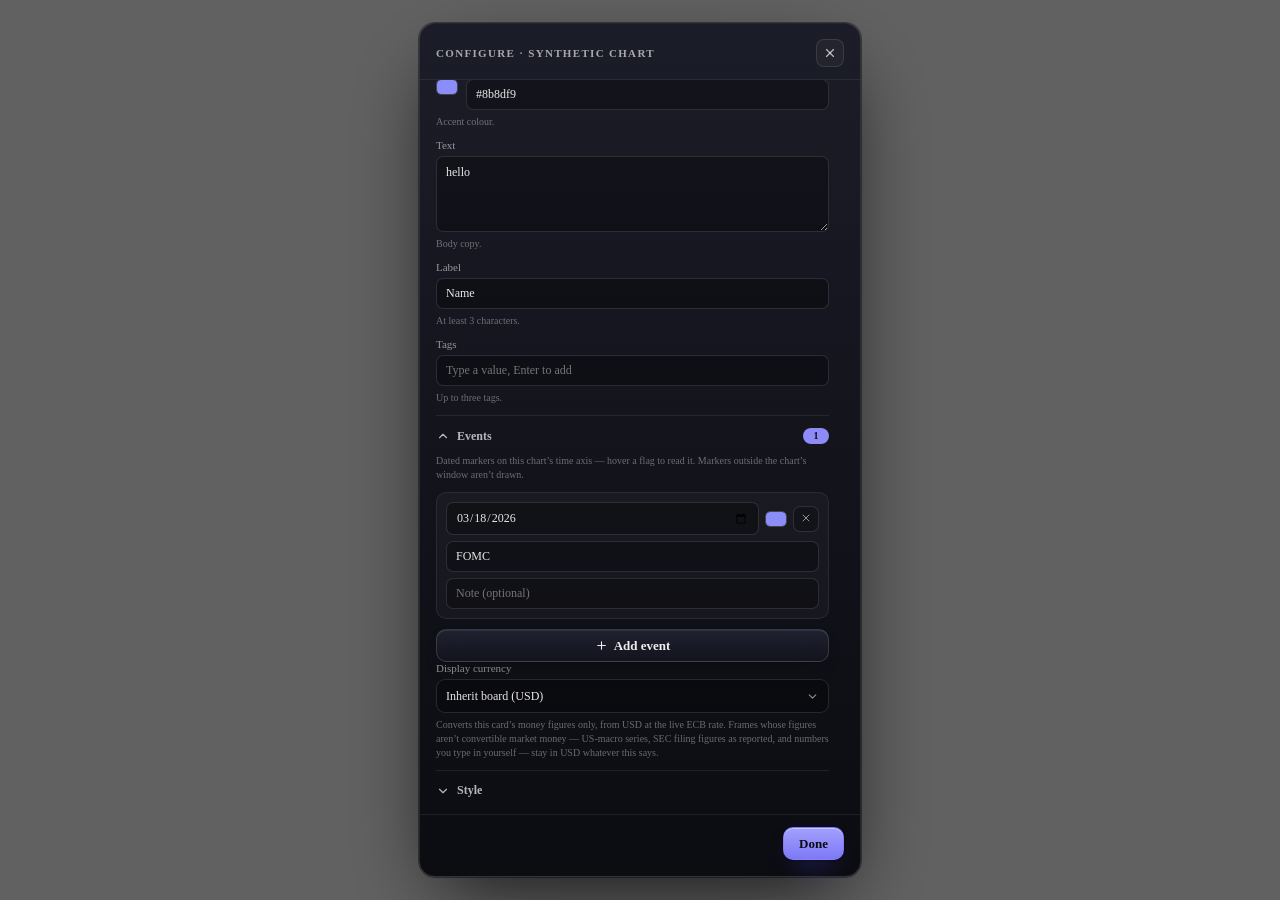
FrameConfigDialog events validation › refuses a cleared date
The image size is (1280, 900).
(page scrolled)
Clear the date field named "Event 1 date" at (602, 518), box x1=446 y1=502 x2=759 y2=535
Wait 200 ms
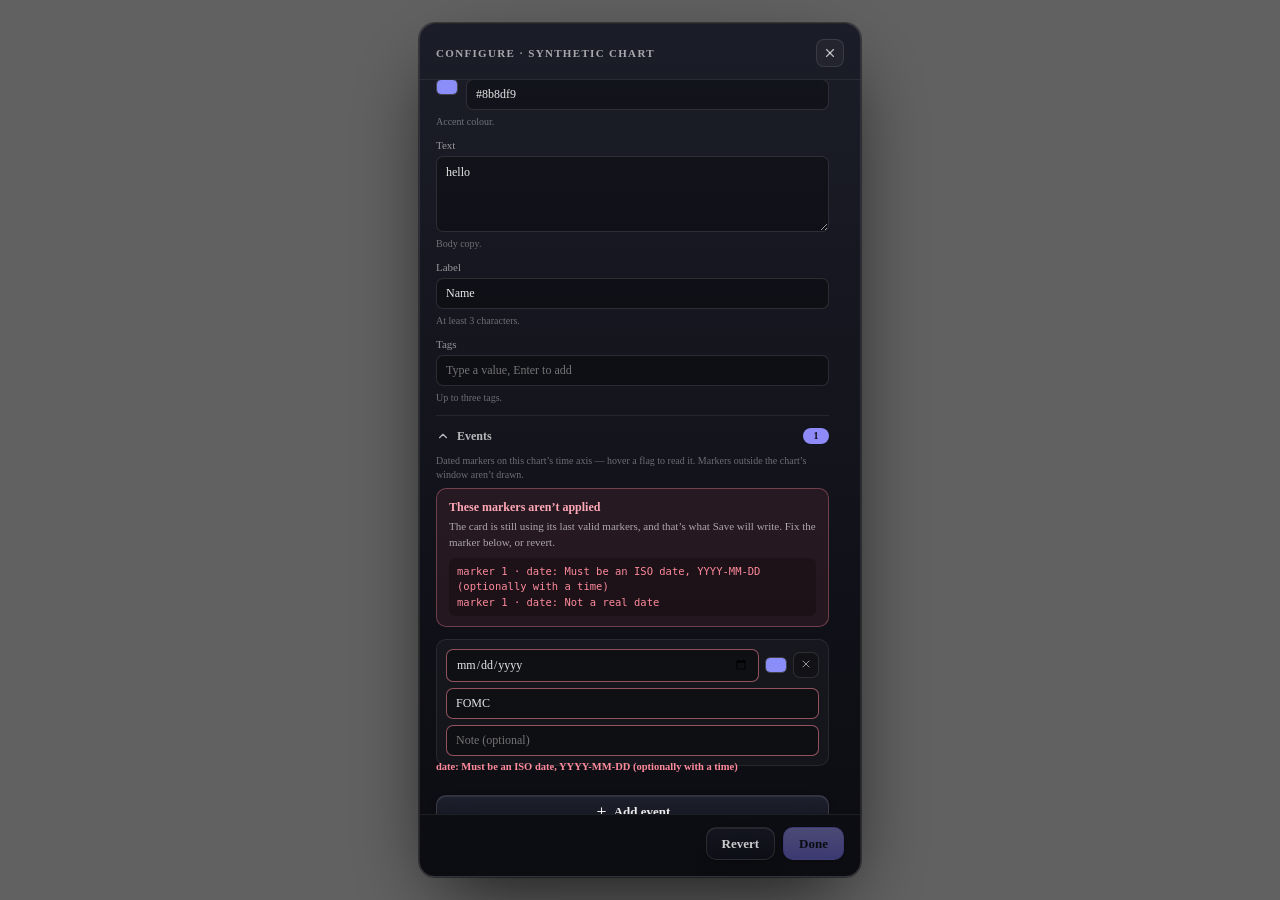
Check: the message is shown, box x1=436 y1=488 x2=829 y2=627
